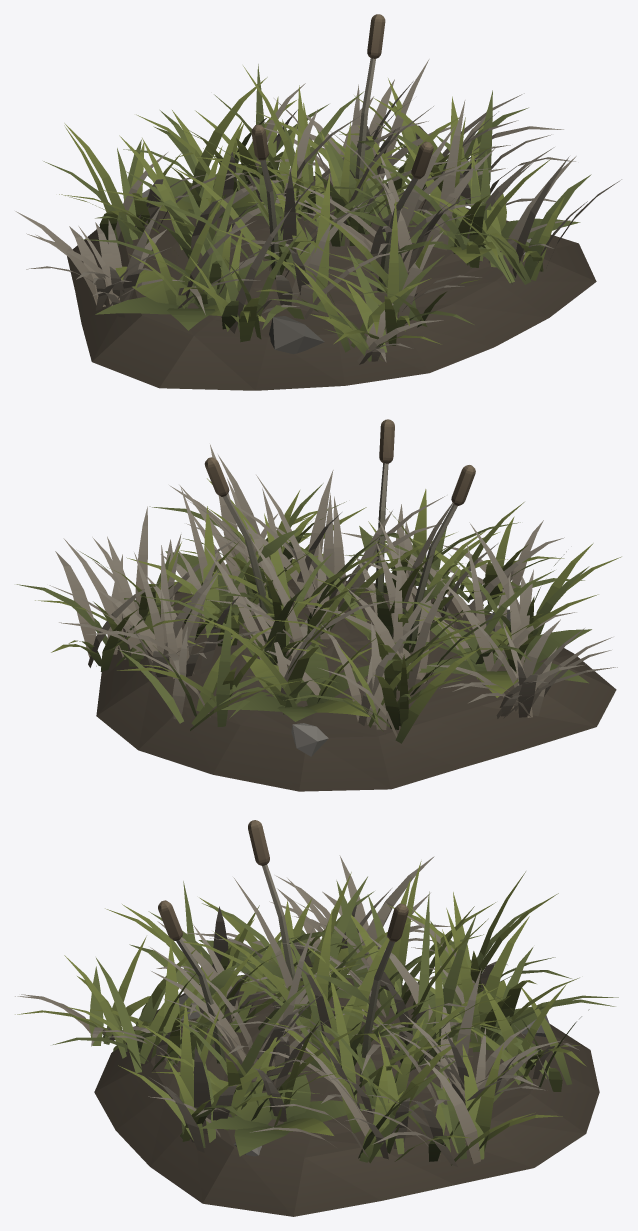
Rendered from overgrown_weeds.glb.
3 renders of one model, top to bottom at view 1: azimuth 30°, elevation 25°; view 2: azimuth 150°, elevation 25°; view 3: azimuth 270°, elevation 25°, orthographic. The views are drawn at different scales.
Visible parts, largest first — view 1: overgrown_weeds; view 2: overgrown_weeds; view 3: overgrown_weeds.
Part boxes in pixels (left/top/right/bottom): overgrown_weeds: left=15, top=14, right=621, bottom=390; overgrown_weeds: left=16, top=419, right=621, bottom=791; overgrown_weeds: left=15, top=820, right=618, bottom=1216.
Bounding box in the file's own units: 0.904 × 0.351 × 0.819.
